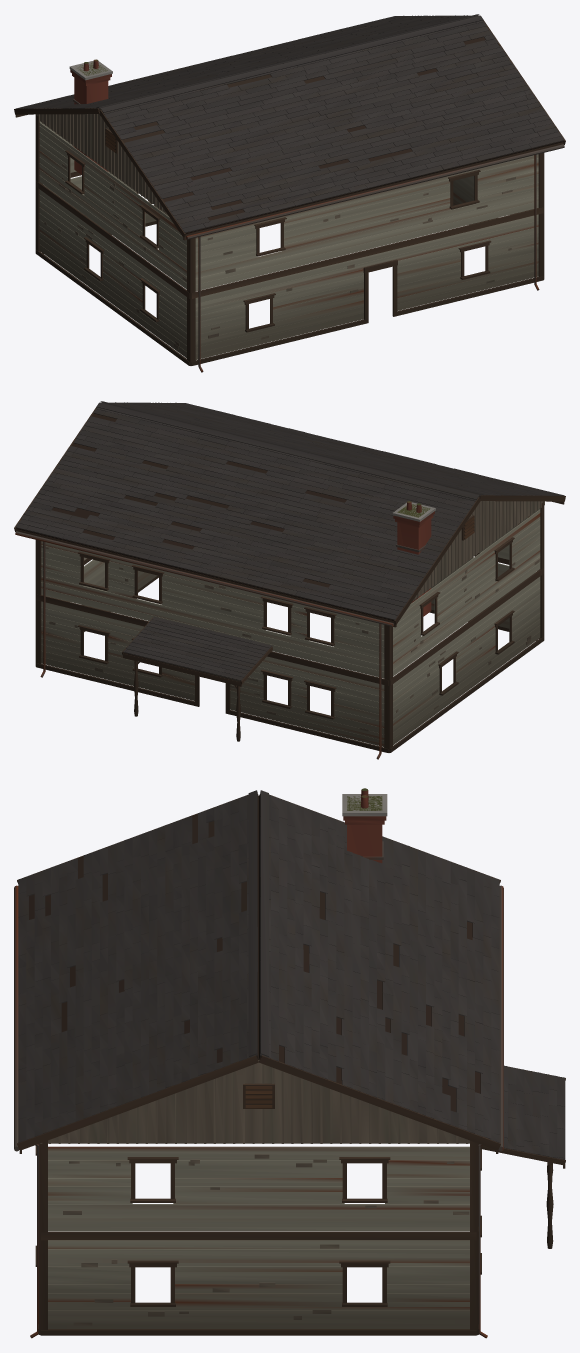
Rendered from FarmhouseExterior.glb.
3 views of the same model, one above another, from view 1: azimuth 30°, elevation 25°; view 2: azimuth 150°, elevation 25°; view 3: azimuth 270°, elevation 25° (orthographic). The views are drawn at different scales.
Parts seen in each view (by area): view 1: FarmhouseExterior_shingle, FarmhouseExterior_clapboard_farm, FarmhouseExterior_trim, FarmhouseExterior_siding, FarmhouseExterior_iron, FarmhouseExterior_roof_deck, FarmhouseExterior_brick, FarmhouseExterior_concrete; view 2: FarmhouseExterior_shingle, FarmhouseExterior_clapboard_farm, FarmhouseExterior_trim, FarmhouseExterior_siding, FarmhouseExterior_roof_deck, FarmhouseExterior_iron, FarmhouseExterior_brick; view 3: FarmhouseExterior_shingle, FarmhouseExterior_clapboard_farm, FarmhouseExterior_trim, FarmhouseExterior_siding, FarmhouseExterior_roof_deck, FarmhouseExterior_iron, FarmhouseExterior_brick, FarmhouseExterior_concrete.
Boxes of the visible parts, <box> form: FarmhouseExterior_shingle: <box>15,14,564,232</box>; FarmhouseExterior_clapboard_farm: <box>39,121,538,359</box>; FarmhouseExterior_trim: <box>14,15,565,365</box>; FarmhouseExterior_siding: <box>36,114,515,349</box>; FarmhouseExterior_iron: <box>42,99,564,372</box>; FarmhouseExterior_roof_deck: <box>99,37,563,234</box>; FarmhouseExterior_brick: <box>70,59,111,174</box>; FarmhouseExterior_concrete: <box>69,60,112,80</box>; FarmhouseExterior_shingle: <box>15,401,564,680</box>; FarmhouseExterior_clapboard_farm: <box>41,508,540,746</box>; FarmhouseExterior_trim: <box>14,402,565,752</box>; FarmhouseExterior_siding: <box>41,501,544,731</box>; FarmhouseExterior_roof_deck: <box>16,413,480,681</box>; FarmhouseExterior_iron: <box>15,531,537,759</box>; FarmhouseExterior_brick: <box>393,501,434,616</box>; FarmhouseExterior_shingle: <box>18,790,565,1159</box>; FarmhouseExterior_clapboard_farm: <box>48,1146,469,1328</box>; FarmhouseExterior_trim: <box>17,795,565,1335</box>; FarmhouseExterior_siding: <box>40,1060,469,1325</box>; FarmhouseExterior_roof_deck: <box>29,794,480,1111</box>; FarmhouseExterior_iron: <box>14,841,503,1338</box>; FarmhouseExterior_brick: <box>343,788,386,863</box>; FarmhouseExterior_concrete: <box>342,794,387,816</box>.
Bounding box in the file's own units: 70.85 × 39.67 × 62.58.
